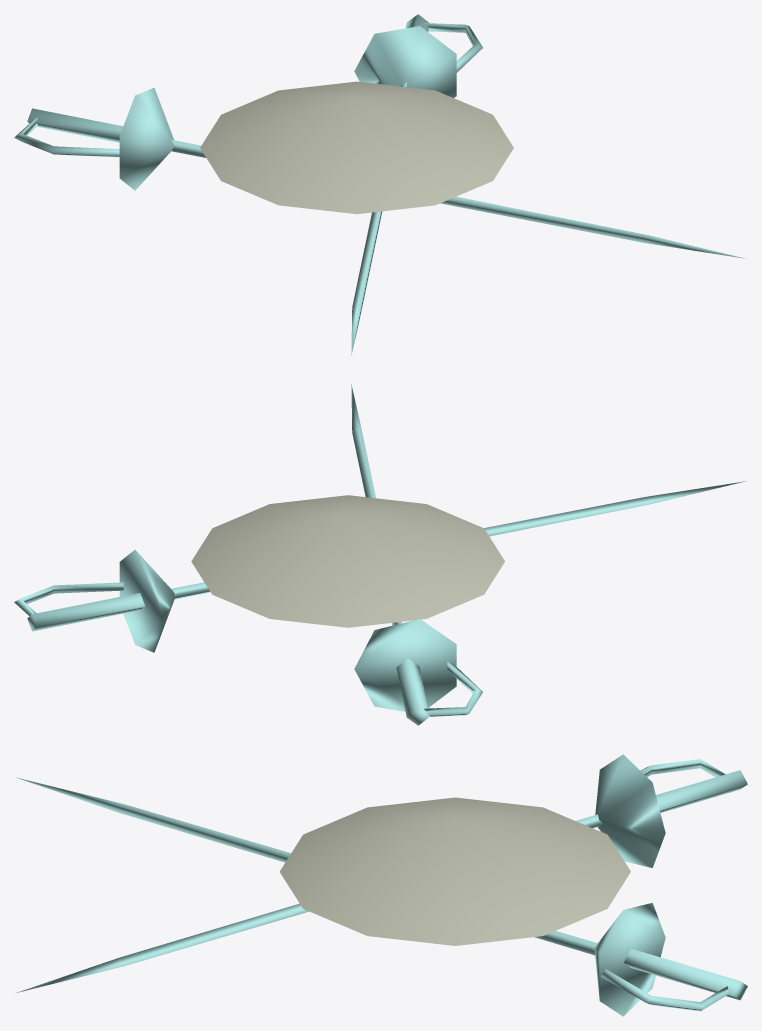
3 renders of one model, top to bottom at view 1: azimuth 30°, elevation 25°; view 2: azimuth 150°, elevation 25°; view 3: azimuth 270°, elevation 25°, orthographic. The views are drawn at different scales.
Parts seen in each view (by area): view 1: Object38; view 2: Object38; view 3: Object38.
Boxes of the visible parts, x1,y1,x2,y2 form: Object38: [14, 14, 746, 355]; Object38: [14, 384, 746, 725]; Object38: [16, 754, 747, 1016].
Size of the model in its own units: 11374 by 2609 by 14171.
